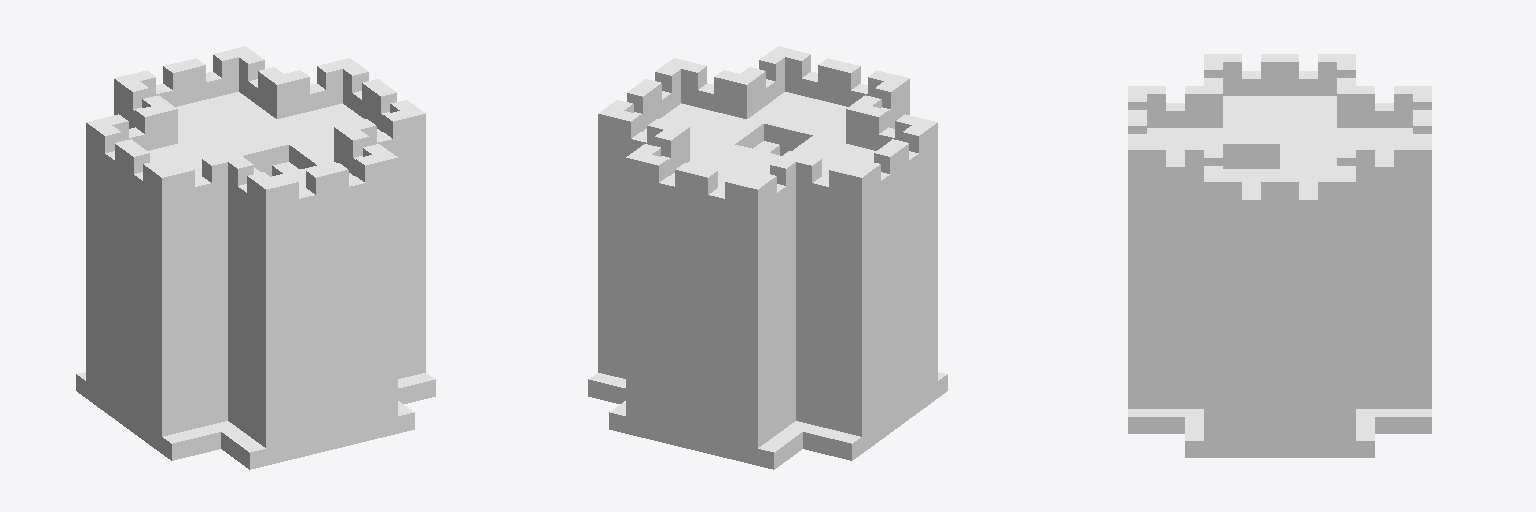
File: WallJunction1.obj
3 views of the same model, side by side, from view 1: azimuth 30°, elevation 25°; view 2: azimuth 150°, elevation 25°; view 3: azimuth 270°, elevation 25° (orthographic).
Parts seen in each view (by area): view 1: WallJunction1; view 2: WallJunction1; view 3: WallJunction1.
Boxes of the visible parts, <box> form: WallJunction1: <box>76,46,435,469</box>; WallJunction1: <box>588,46,947,469</box>; WallJunction1: <box>1128,54,1431,457</box>.
Bounding box in the file's own units: 16 × 16 × 16.